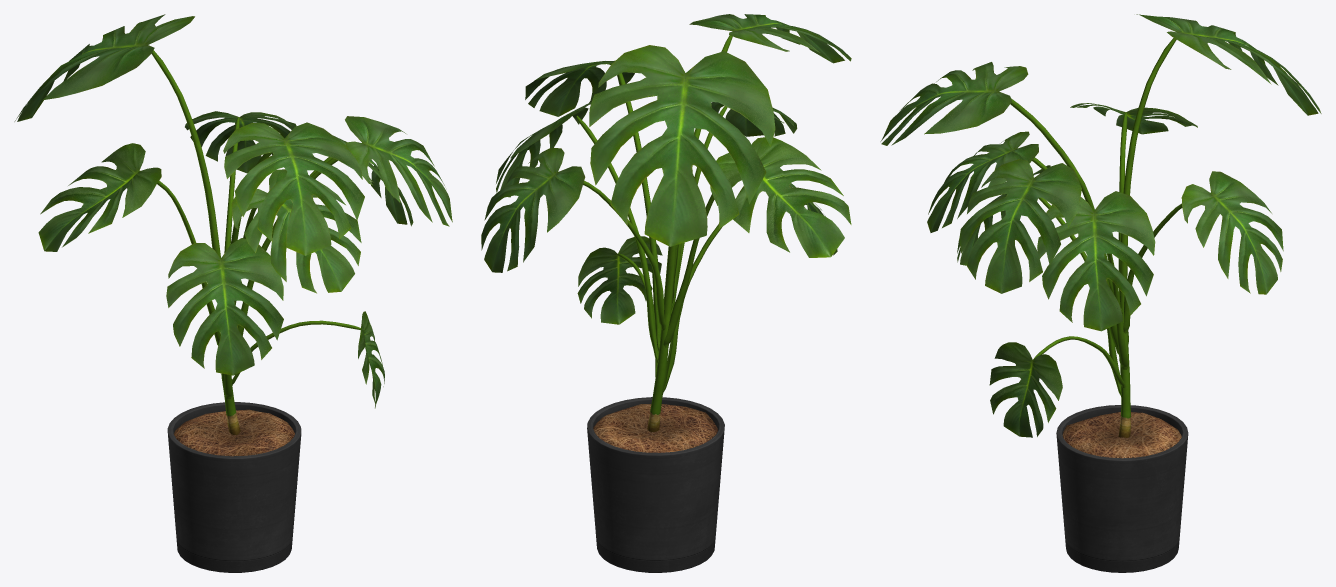
Rendered from BP_RoomPlantsSet01_MonsuteraA.fbx.
3 renders of one model, left to right at view 1: azimuth 30°, elevation 25°; view 2: azimuth 150°, elevation 25°; view 3: azimuth 270°, elevation 25°, orthographic. The views are drawn at different scales.
Visible parts, largest first — view 1: Ha, Hachi, Ha_ura, Kuki, Kokofiber; view 2: Ha, Hachi, Ha_ura, Kuki, Kokofiber; view 3: Ha, Hachi, Ha_ura, Kuki, Kokofiber.
Boxes of the visible parts, <box> form: Ha: <box>14,14,452,408</box>; Hachi: <box>167,402,301,572</box>; Ha_ura: <box>18,15,451,405</box>; Kuki: <box>139,50,362,434</box>; Kokofiber: <box>174,409,294,456</box>; Ha: <box>481,14,851,324</box>; Hachi: <box>587,397,724,572</box>; Ha_ura: <box>481,14,850,324</box>; Kuki: <box>576,35,732,431</box>; Kokofiber: <box>593,404,717,452</box>; Ha: <box>880,14,1321,437</box>; Hachi: <box>1056,405,1188,572</box>; Ha_ura: <box>882,15,1319,436</box>; Kuki: <box>1010,38,1211,437</box>; Kokofiber: <box>1062,412,1181,458</box>.
Bounding box in the file's own units: 60.98 × 86.09 × 68.39.
